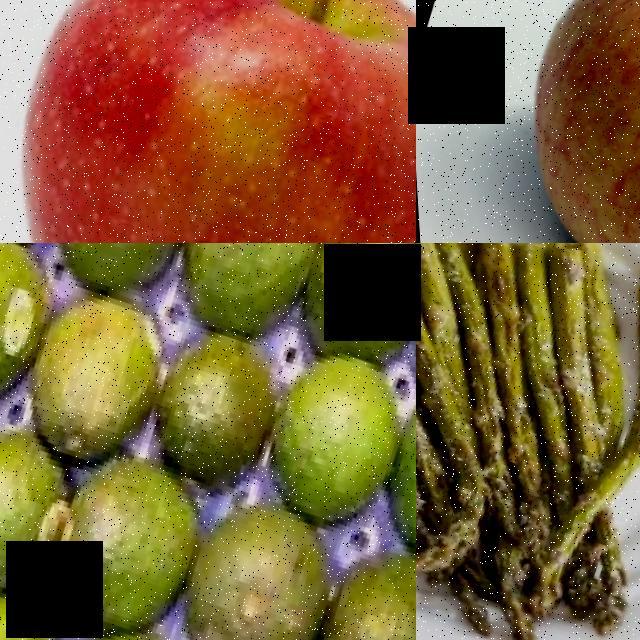apple: (0, 0, 416, 243), (457, 0, 640, 243)
avocado: (25, 427, 221, 640), (234, 334, 416, 541), (120, 298, 297, 506), (147, 473, 361, 640), (11, 276, 176, 455), (148, 243, 355, 353), (0, 402, 93, 617), (275, 243, 416, 378), (279, 514, 416, 640), (350, 371, 416, 578), (0, 243, 72, 431), (29, 243, 210, 309)
